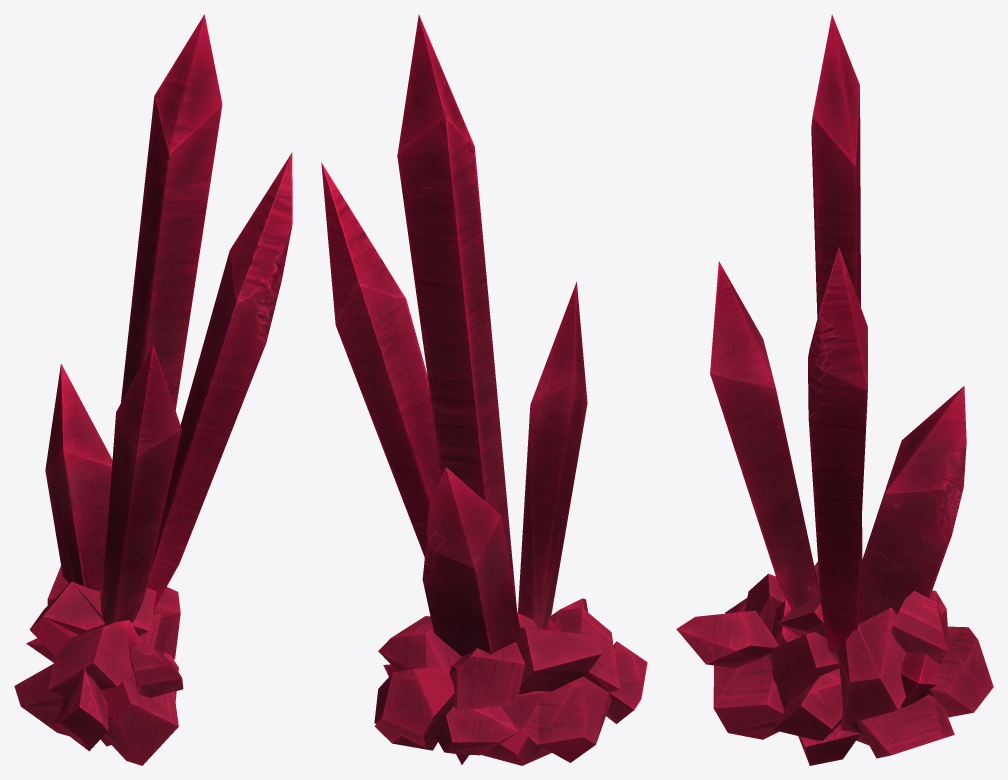
Rendered from Crystal.fbx.
3 renders of one model, left to right at view 1: azimuth 30°, elevation 25°; view 2: azimuth 150°, elevation 25°; view 3: azimuth 270°, elevation 25°, orthographic. The views are drawn at different scales.
Visible parts, largest first — view 1: SM_ENV_ITEM_Crystal.mo; view 2: SM_ENV_ITEM_Crystal.mo; view 3: SM_ENV_ITEM_Crystal.mo.
Part boxes in pixels (box(x1,y1,x2,y2)): SM_ENV_ITEM_Crystal.mo: box(14, 14, 292, 765); SM_ENV_ITEM_Crystal.mo: box(321, 14, 647, 765); SM_ENV_ITEM_Crystal.mo: box(676, 14, 993, 765).
Bounding box in the file's own units: 96.71 × 239 × 87.43.
Materials: 1 (1 with a texture image).
